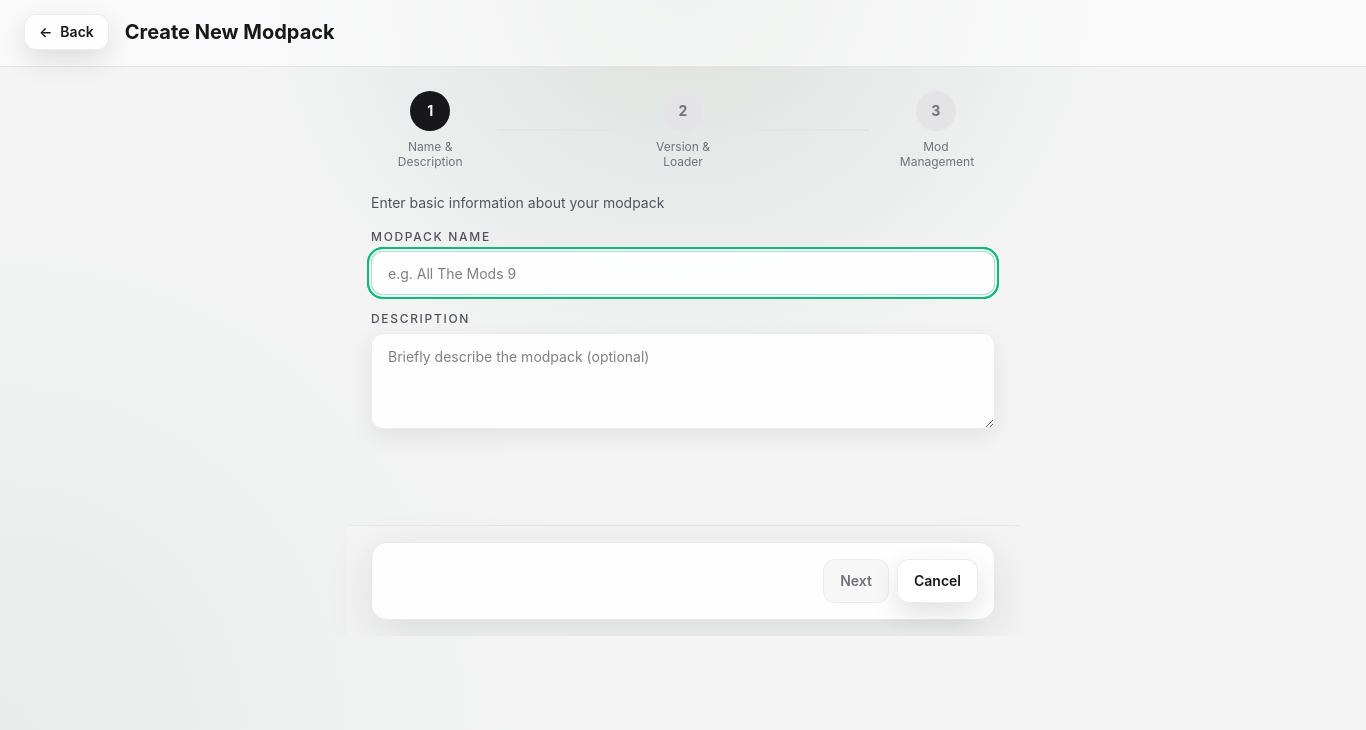
ModpackCreationWizard explainability › separates optional follow-up guidance from the successful create boundary
In the field labelled "Modpack name": (683, 273) left=371, top=251, right=995, bottom=295, type "Calm Pack"
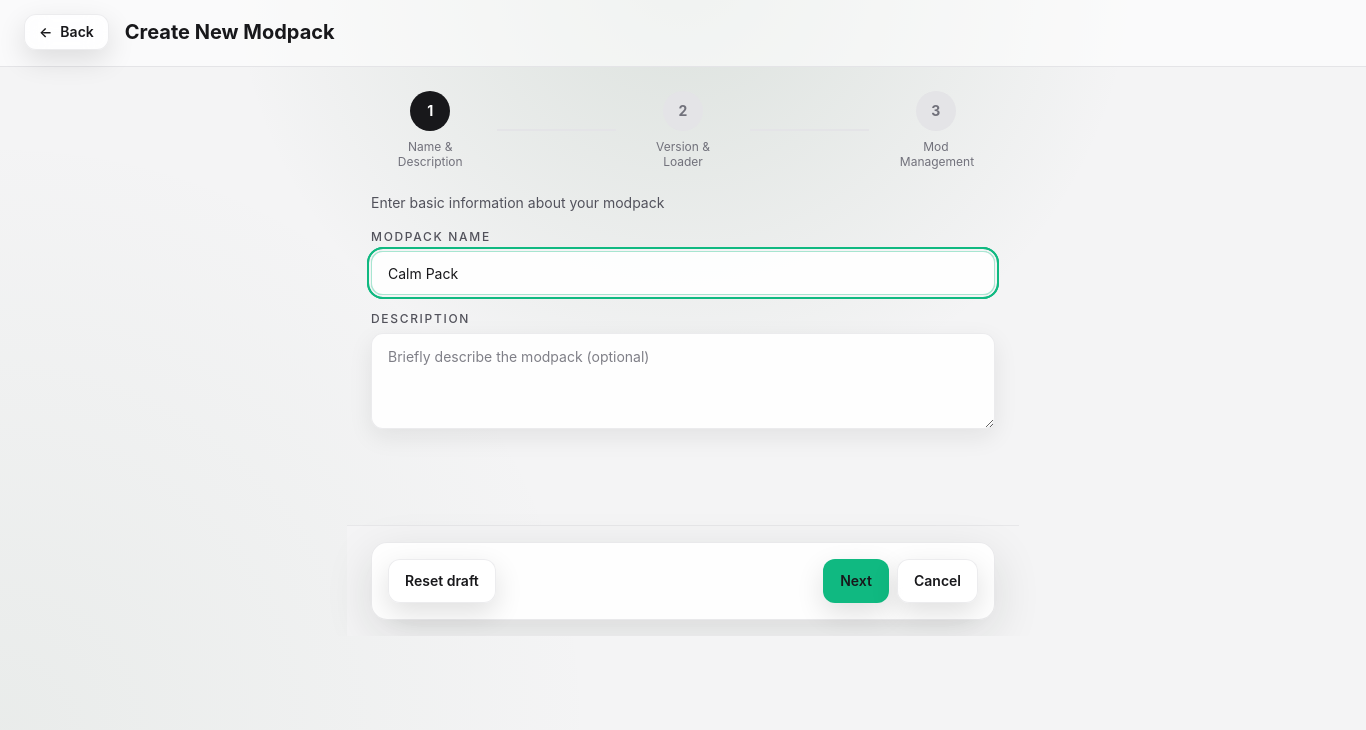
In the text box labelled "Description": (683, 381) left=371, top=333, right=995, bottom=429, type "Optional metadata"
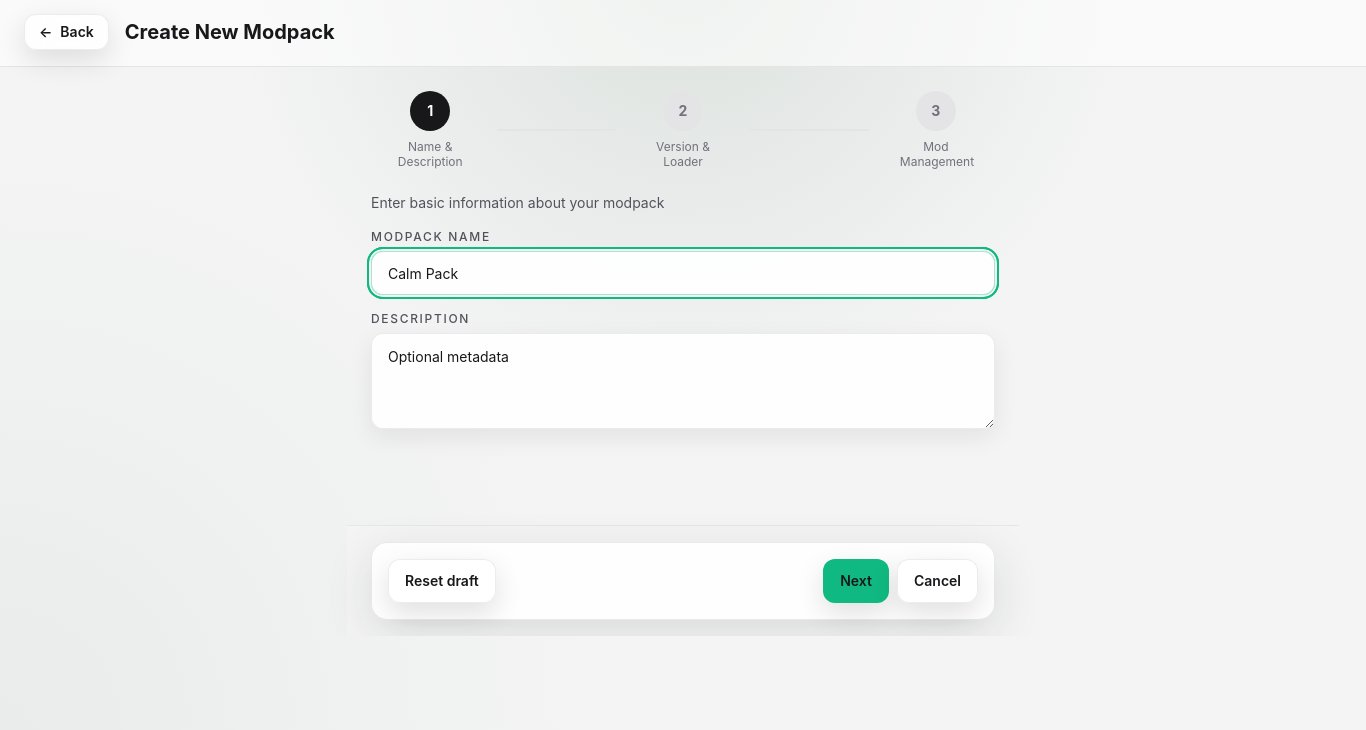
Click the button "Next": (856, 581) left=823, top=559, right=889, bottom=603
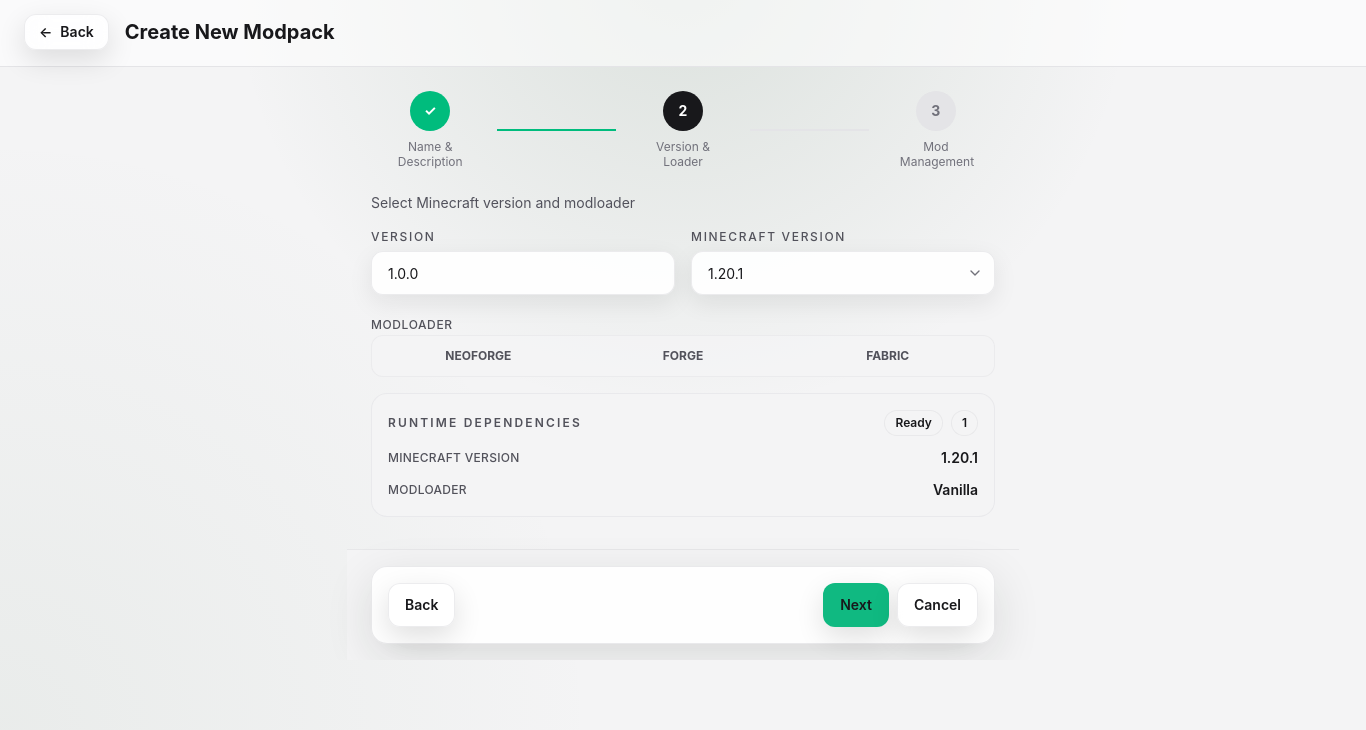
Click the button "Next": (856, 605) left=823, top=583, right=889, bottom=627
(page scrolled)
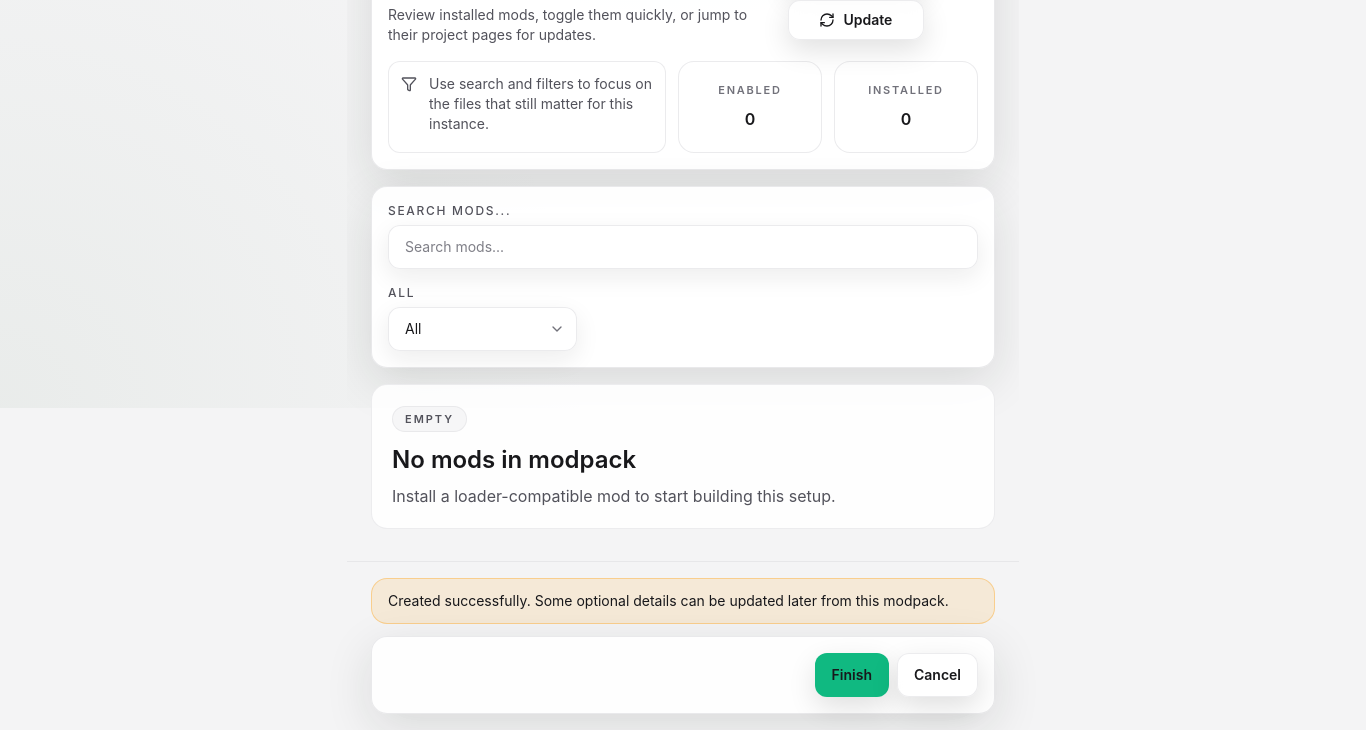
Result: the message with test id "modpack-creation-recovery" shows "Created successfully." at left=388, top=592, right=949, bottom=609
Result: the button "Finish" is shown at left=815, top=653, right=889, bottom=697
